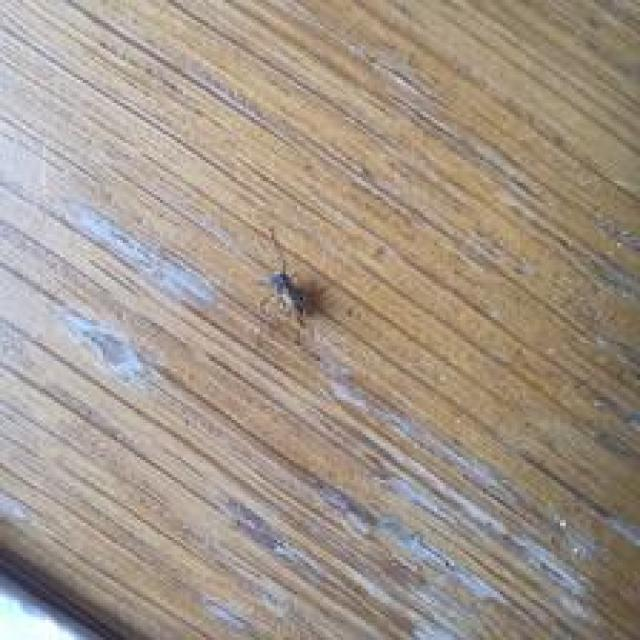Aedes albopictus: (257, 262, 309, 324)
